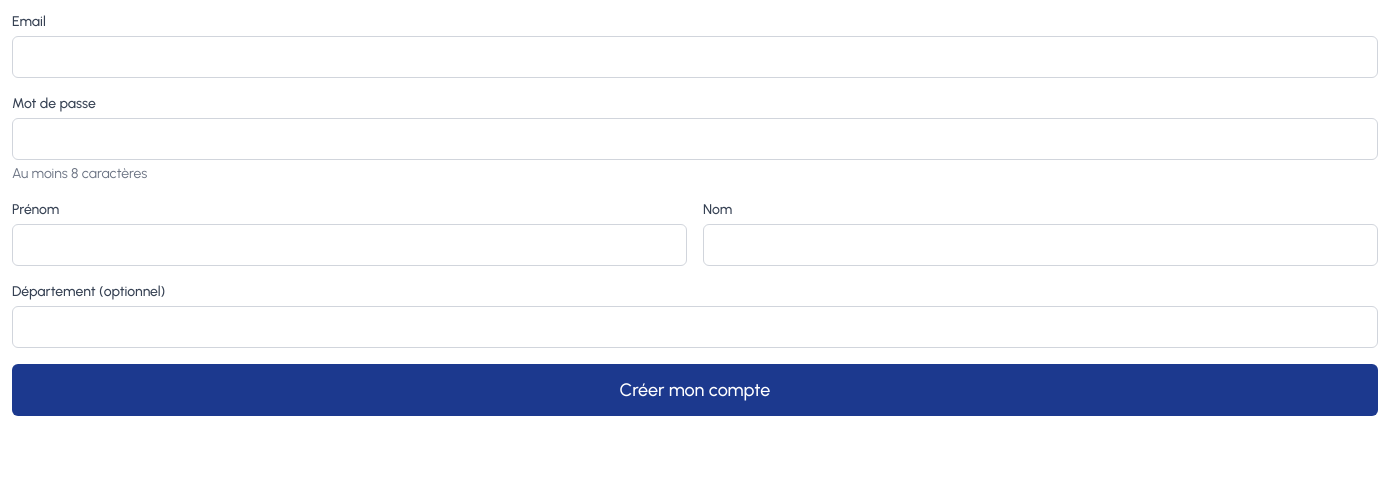
Test: RegisterForm › affiche un message de succès après inscription
Type "test@axa.fr" into the field labelled "Email" at (695, 57), box [12,36,1378,78]
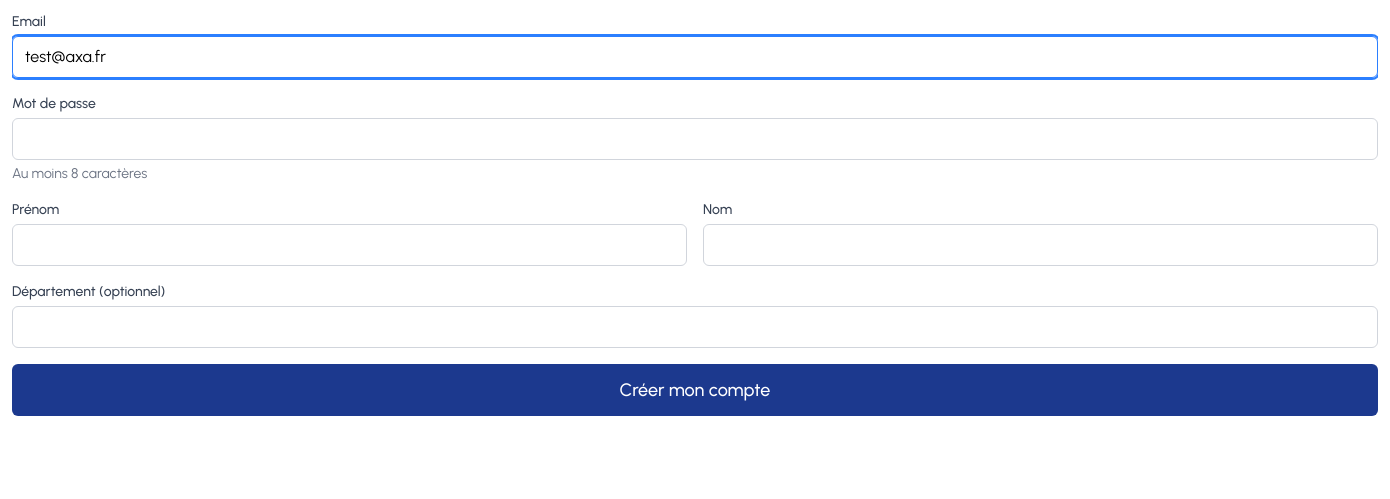
Type "password123" into the password field labelled "Mot de passe" at (695, 139), box [12,118,1378,160]
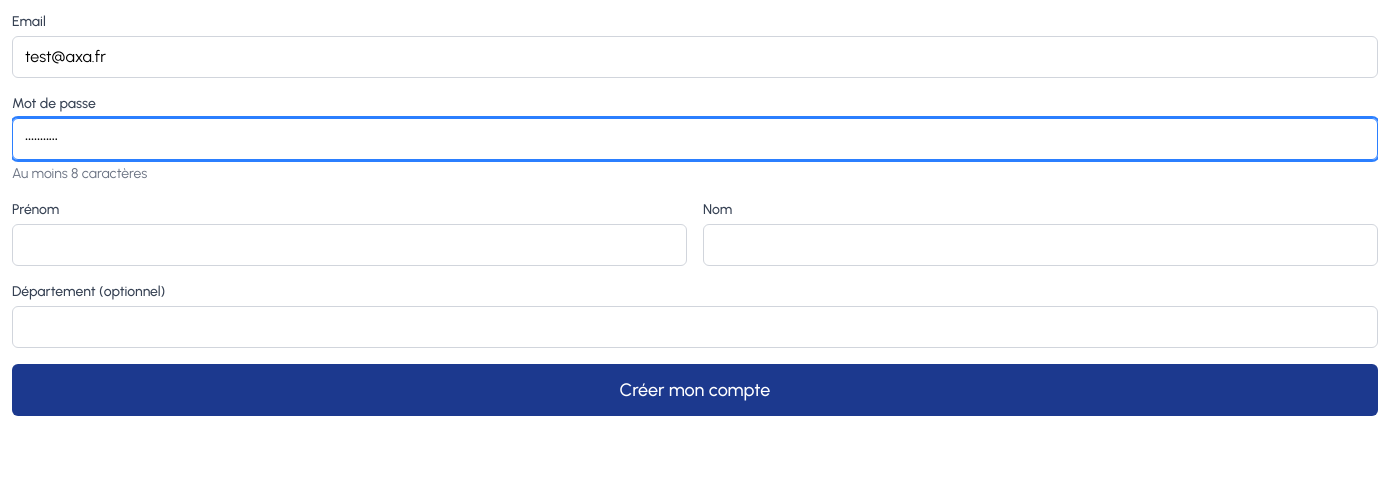
Type "Rainsong" into the field labelled "Prénom" at (350, 245), box [12,224,687,266]
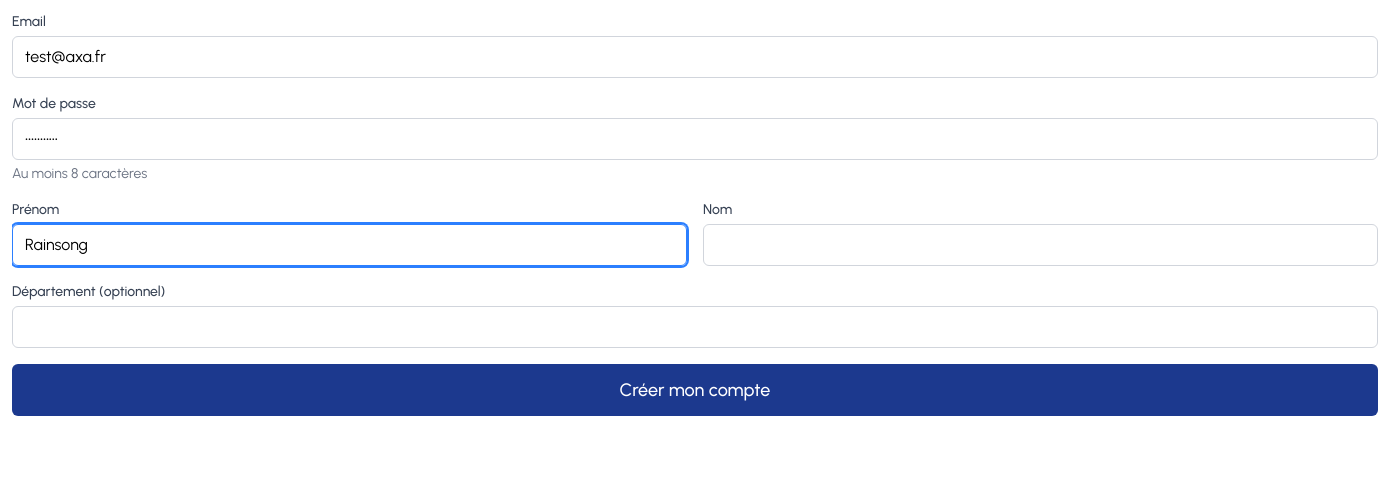
Type "Ngoutsop" into the field labelled "Nom" at (1040, 245), box [703,224,1378,266]
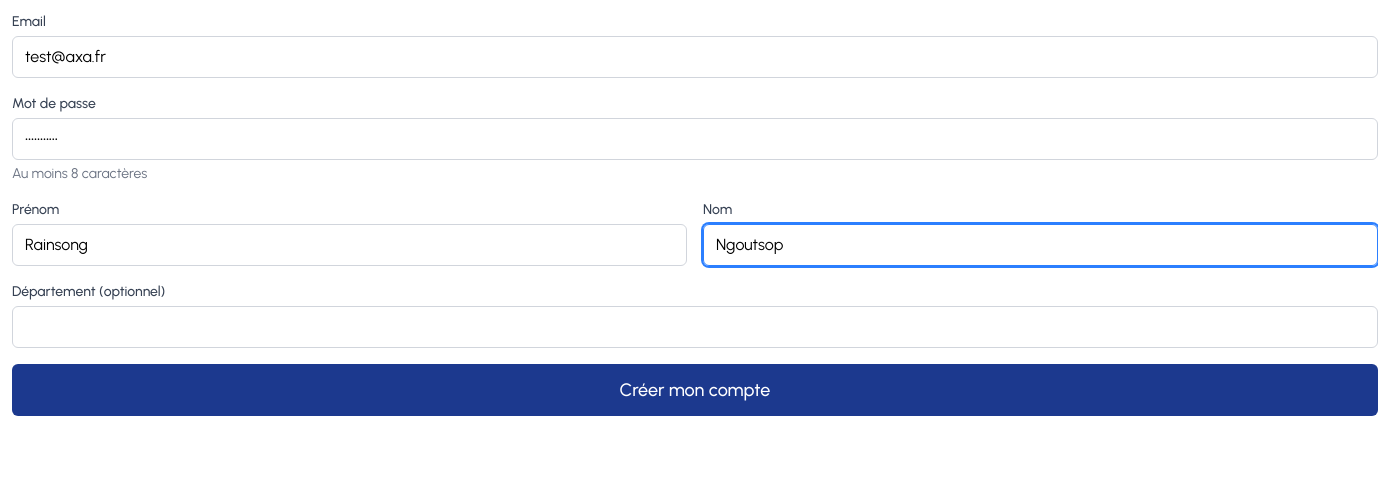
Click the button "Créer mon compte" at (695, 390), box [12,364,1378,416]
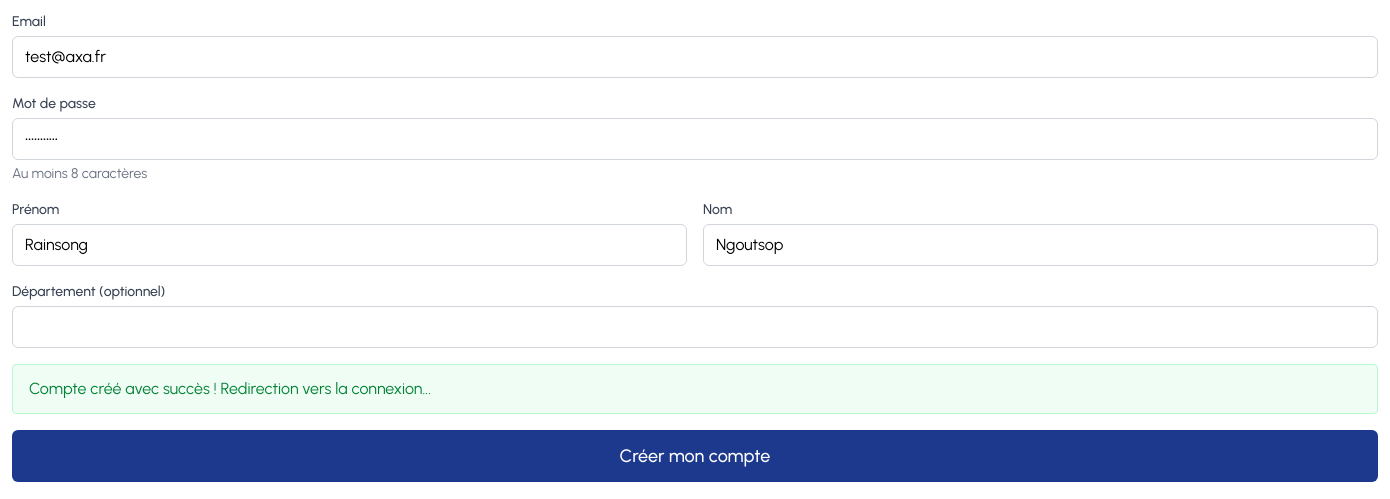
expect the message shows "Compte créé avec succès": met, box [29,379,431,398]
